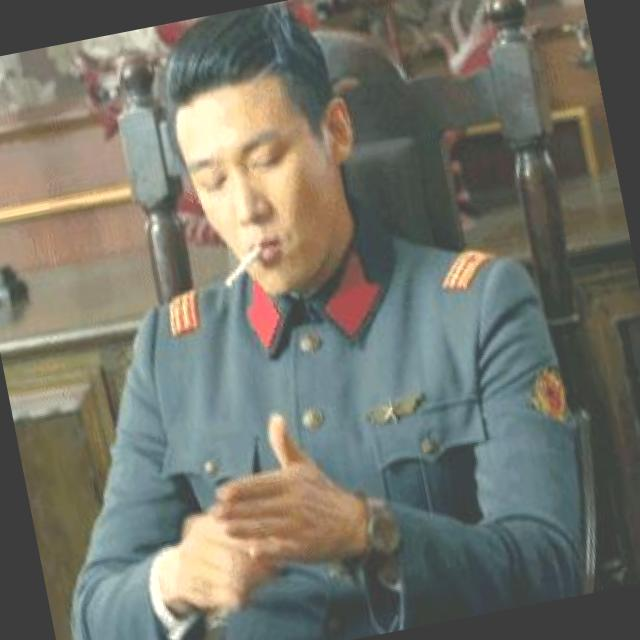smoke: (212, 238, 271, 289)
